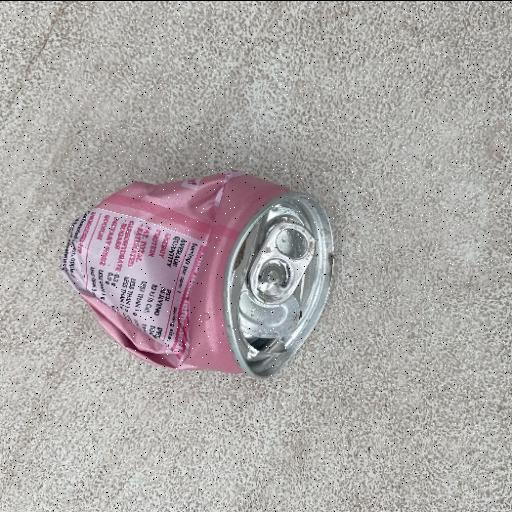Metal: (58, 168, 336, 380)
